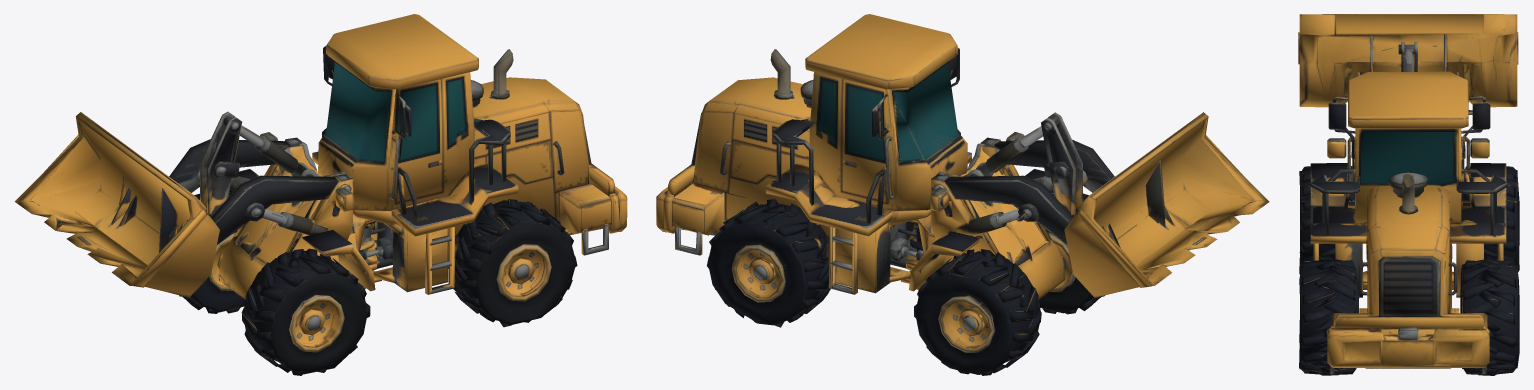
File: WheelLoader.glb
The picture shows the model from 3 angles, left to right: view 1: azimuth 30°, elevation 25°; view 2: azimuth 150°, elevation 25°; view 3: azimuth 270°, elevation 25°; orthographic projection. The views are drawn at different scales.
Bounding box in the file's own units: 0.9517 × 0.4507 × 0.3716.
1 material, 1 textured.
